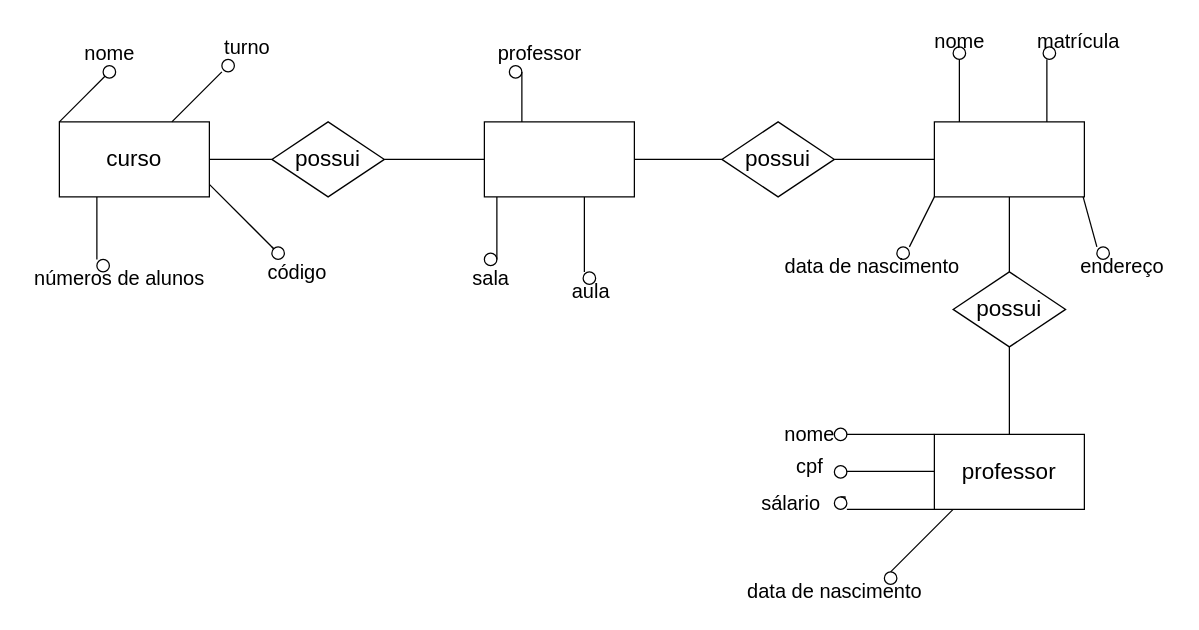
Image size: 1199x630. Some labels were removed from this diagram. The centre of each missing label's shape, as x and y in pixels:
"aluno" belongs at point (1008, 159).
"turma" belongs at point (558, 159).
